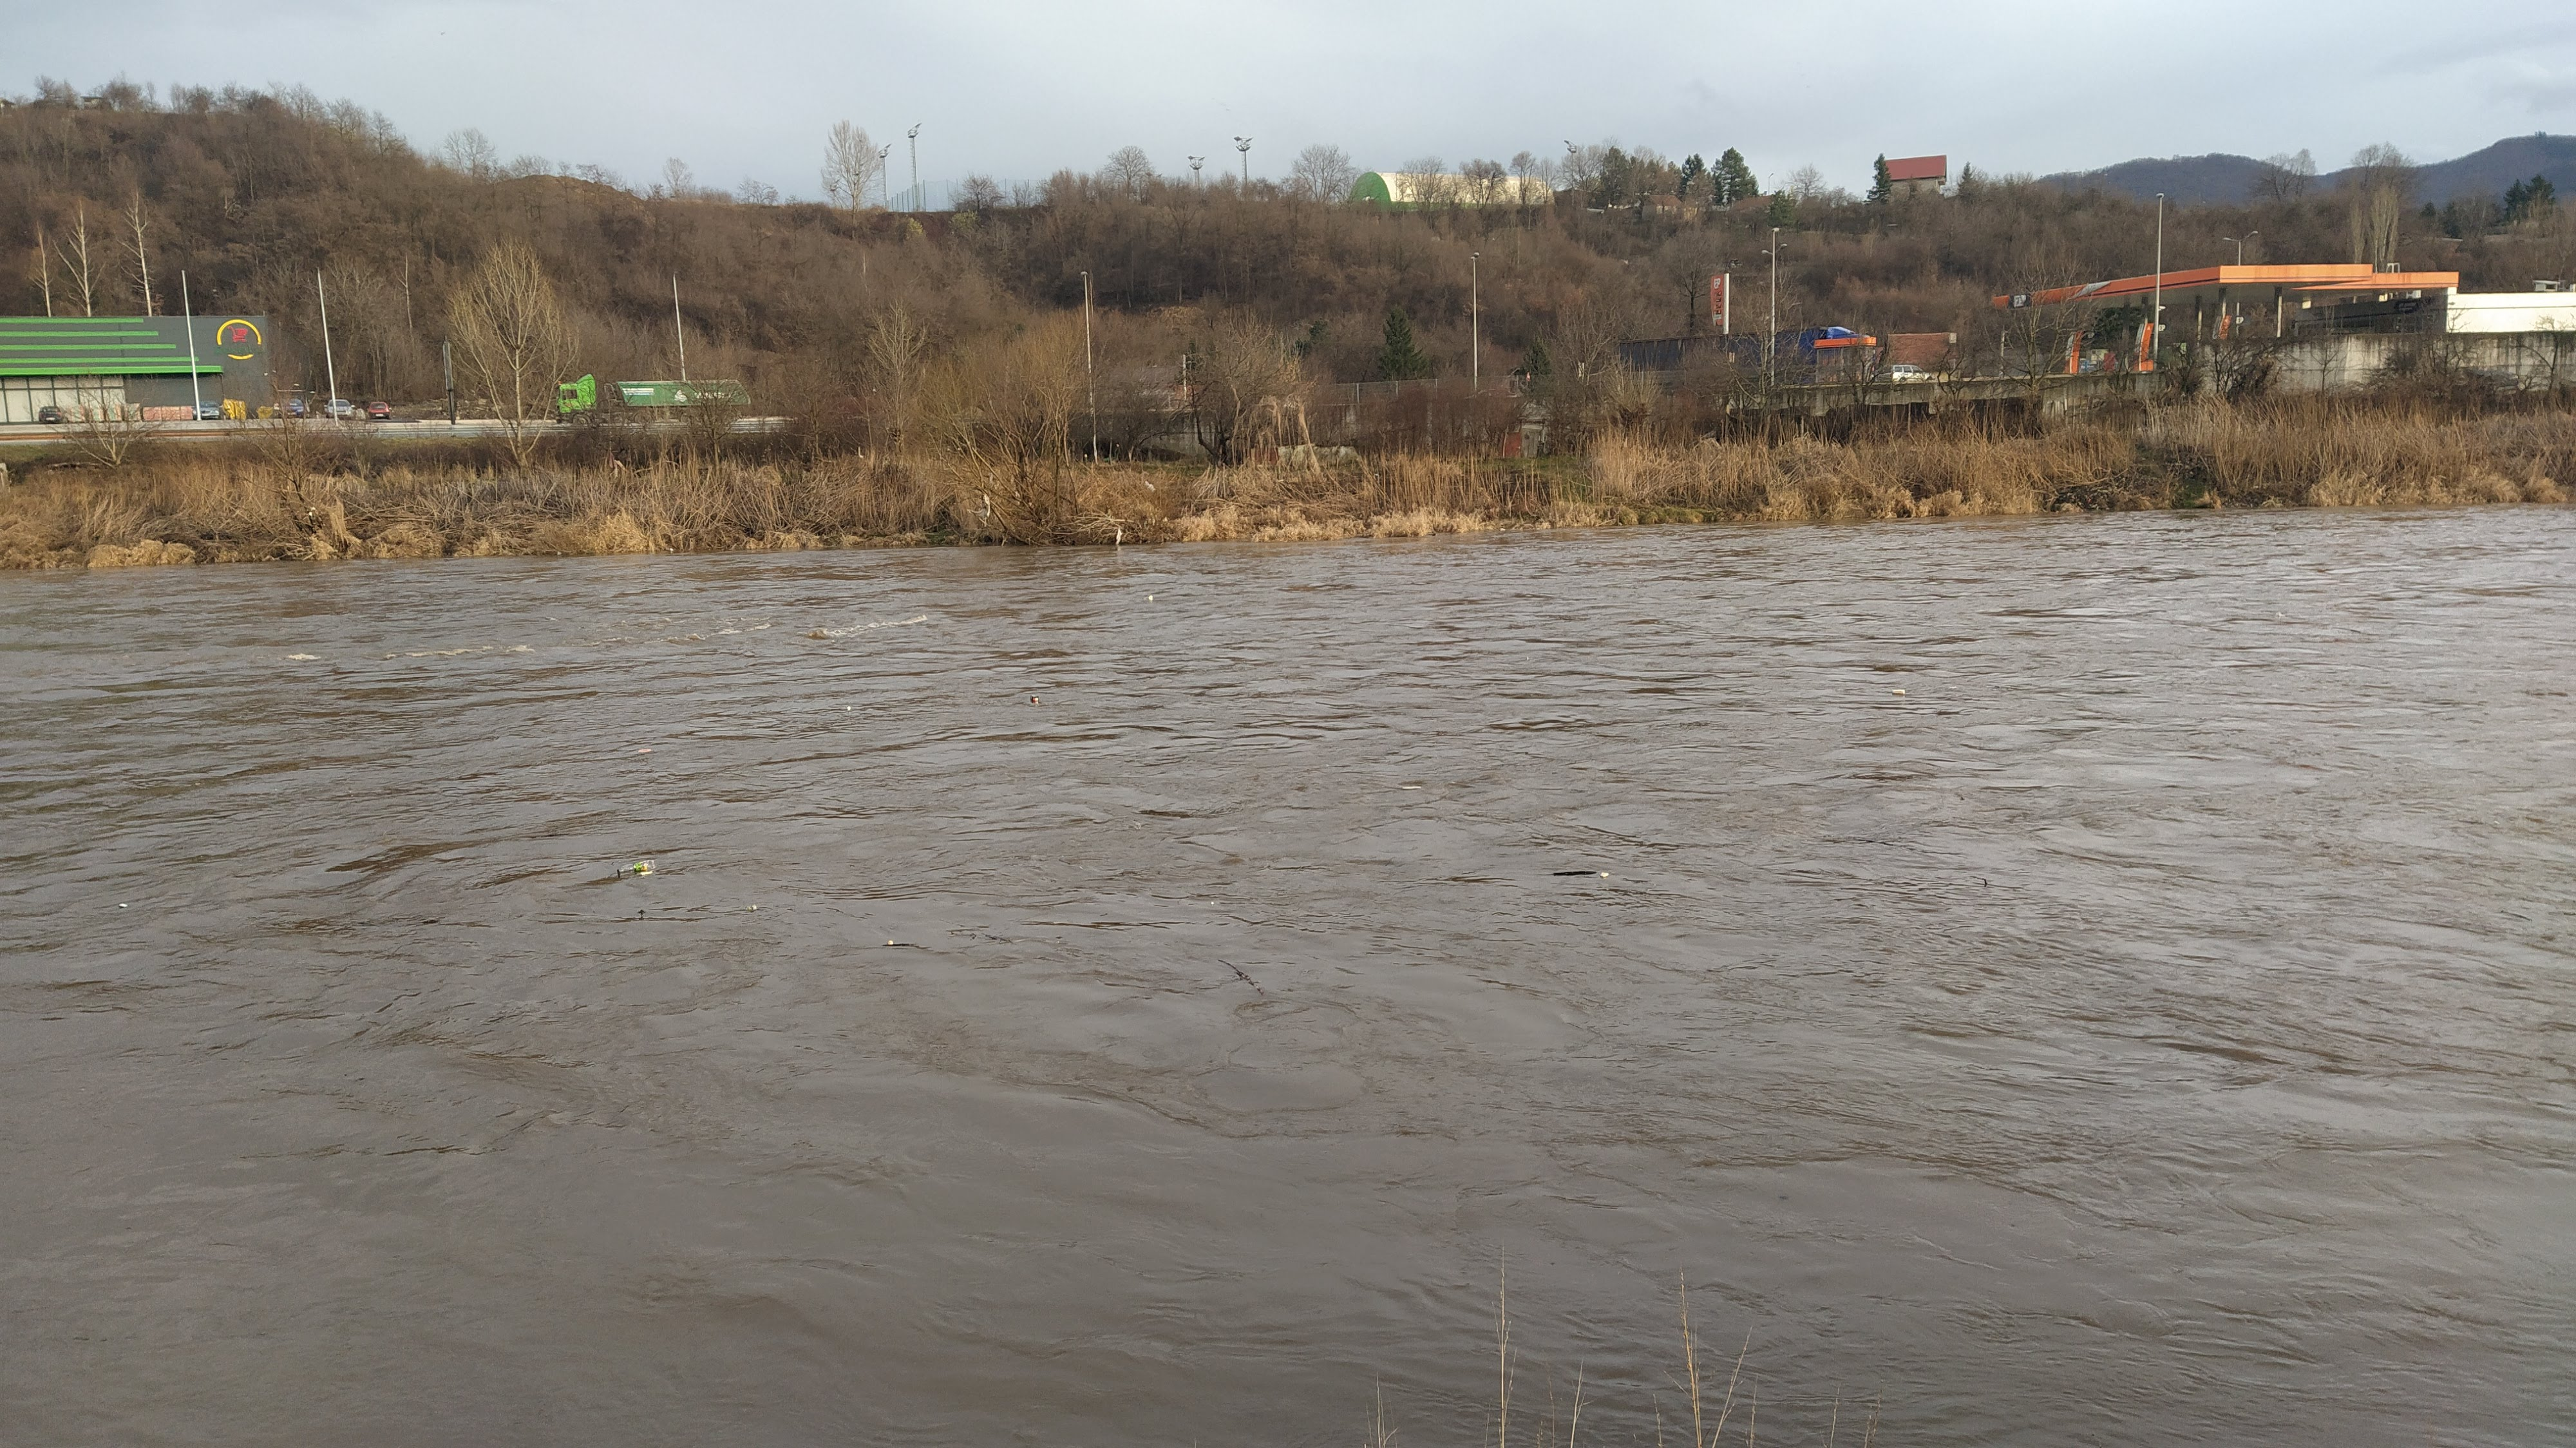Plastic Bottle: (617, 859, 653, 876), (1891, 689, 1905, 696), (1030, 694, 1039, 701), (747, 905, 757, 910), (2275, 612, 2284, 618), (1143, 595, 1152, 598)
